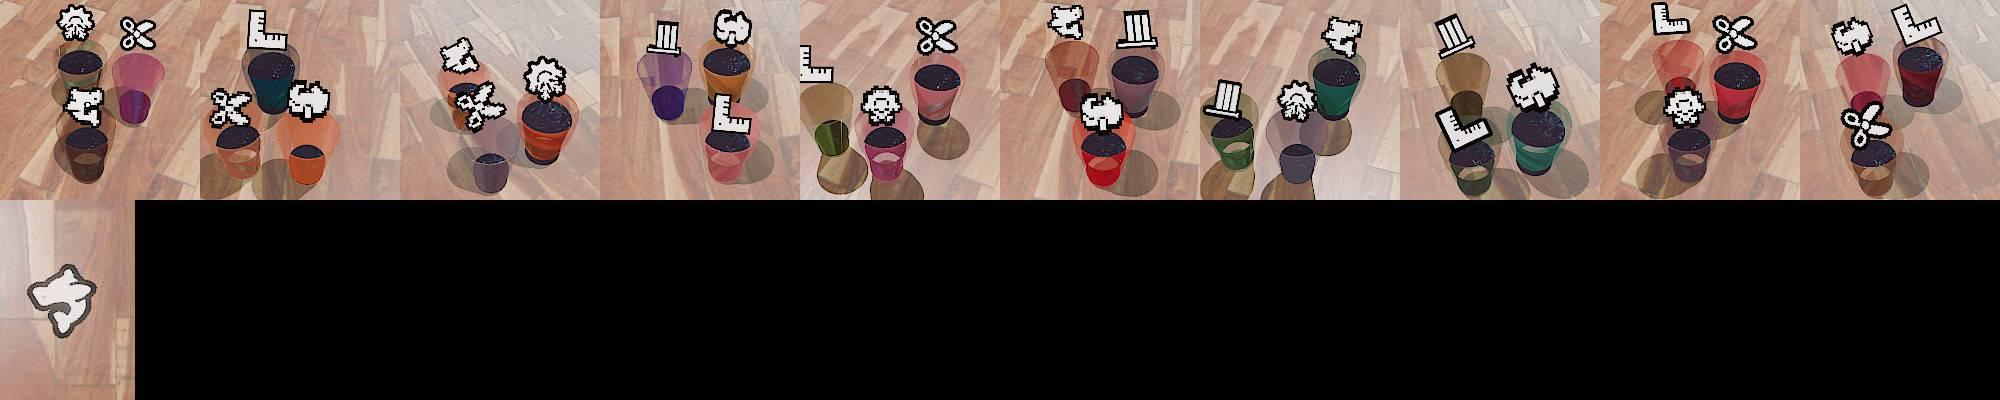icon: (26, 264, 98, 339), (454, 79, 508, 130), (1506, 61, 1561, 111), (1435, 103, 1491, 152), (1843, 102, 1895, 149), (1889, 3, 1943, 48), (707, 90, 753, 136), (522, 55, 568, 99), (1434, 13, 1478, 59), (1320, 14, 1364, 60), (1078, 90, 1125, 132), (245, 10, 290, 54), (286, 79, 332, 121), (1712, 14, 1759, 55), (210, 87, 254, 130), (860, 84, 903, 127), (1276, 78, 1316, 122), (1662, 85, 1707, 126), (1115, 9, 1158, 50), (915, 15, 959, 55), (1830, 17, 1875, 56), (62, 87, 103, 127), (439, 36, 481, 74), (712, 8, 751, 47), (796, 45, 835, 84), (56, 4, 97, 42), (1047, 3, 1085, 41), (1651, 1, 1690, 38), (119, 17, 158, 51), (1213, 78, 1242, 115), (652, 19, 681, 54)
